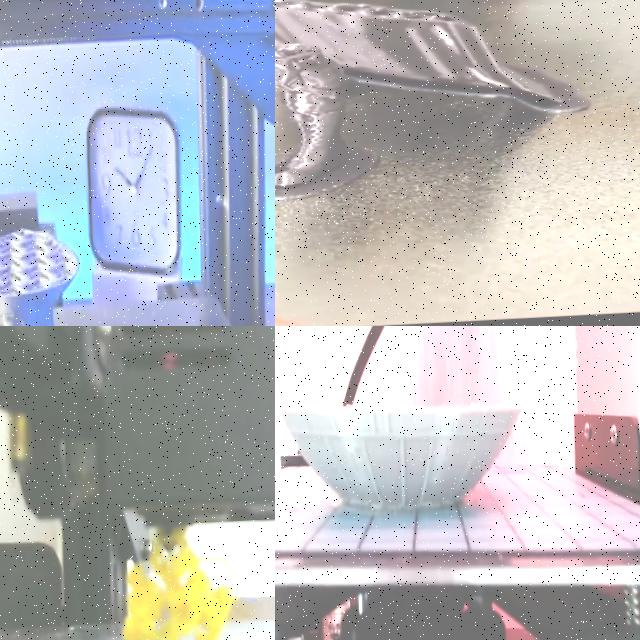spaghetti: (122, 527, 237, 640)
